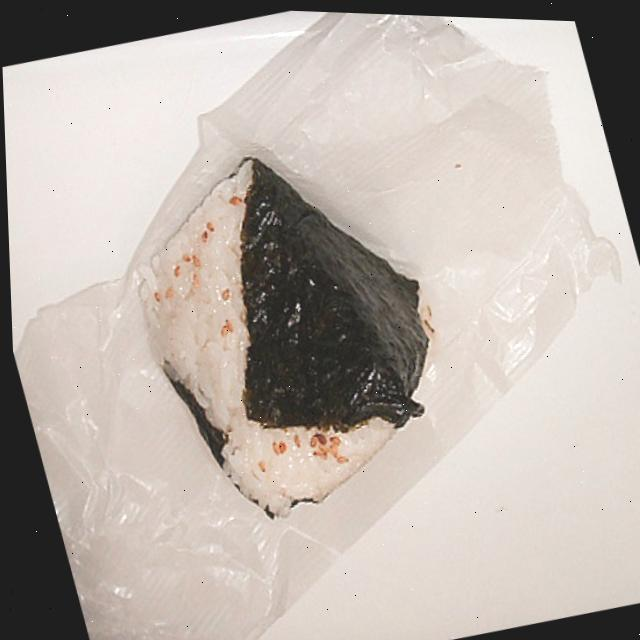米饭主食: (73, 100, 478, 563)
